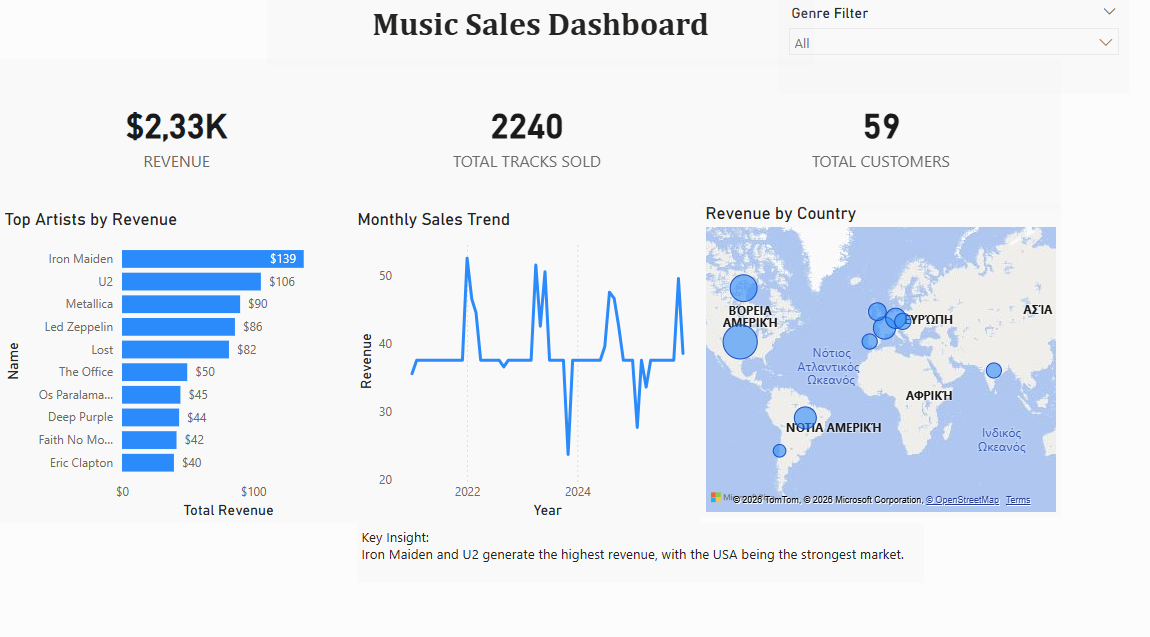

The page's visual inventory and layout, read from the dashboard file:
{"tool":"powerbi","page":{"name":"Page 1","canvas":[1280,720],"ordinal":0},"visuals":[{"type":"clusteredBarChart","title":"Top Artists by Revenue","fields":{"Y":["chinook invoiceline.revenue"],"Category":["chinook artist.Name"]},"box":[0,209.4,353,313.5],"z":0},{"type":"lineChart","title":"Monthly Sales Trend","fields":{"Y":["chinook invoiceline.revenue"],"Category":["chinook invoice.InvoiceDate.Variation.Date Hierarchy.Year","chinook invoice.InvoiceDate.Variation.Date Hierarchy.Month"]},"box":[353,209.4,348.5,313.5],"z":1000},{"type":"slicer","fields":{"Values":["chinook genre.Name"]},"box":[779,0,350,94],"z":2000},{"type":"map","title":"Revenue by Country","fields":{"Category":["chinook invoice.BillingCountry"],"Size":["chinook invoiceline.revenue"]},"box":[701,203,360,314],"z":3000},{"type":"card","fields":{"Values":["chinook invoiceline.revenue"]},"box":[0,59.4,353,150],"z":4000},{"type":"card","fields":{"Values":["chinook invoiceline.Total Tracks Sold"]},"box":[353,59.4,348.5,150],"z":5000},{"type":"card","fields":{"Values":["chinook invoice.total customers"]},"box":[701.5,59.4,359.8,150],"z":6000},{"type":"textbox","box":[267,0,548,65],"z":7000},{"type":"textbox","box":[357,523,567,60],"z":8000}]}

Visuals, with their boxes in screenshot pixels (x1, y1, x2, y2), scaled from the page's 1280x720 canvas onto the 1150x637 screenshot:
"Top Artists by Revenue" clusteredBarChart: [0,185,317,463]
"Monthly Sales Trend" lineChart: [317,185,630,463]
slicer - chinook genre.Name: [700,0,1014,83]
"Revenue by Country" map: [630,180,953,457]
card - chinook invoiceline.revenue: [0,53,317,185]
card - chinook invoiceline.Total Tracks Sold: [317,53,630,185]
card - chinook invoice.total customers: [630,53,954,185]
textbox: [240,0,732,58]
textbox: [321,463,830,516]
